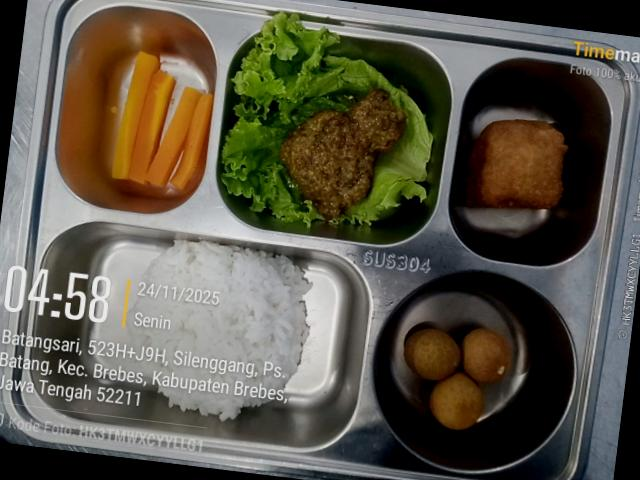ayam: (280, 89, 405, 220)
buah: (403, 328, 510, 430)
nasi: (126, 240, 310, 420)
sayur: (111, 52, 212, 189), (233, 12, 338, 121)
tahu: (463, 120, 567, 209)
